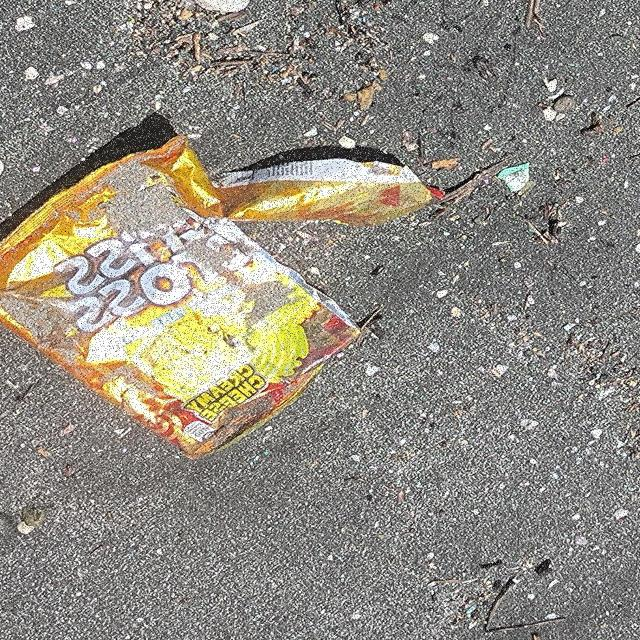plastic_waste: (1, 133, 448, 464)
